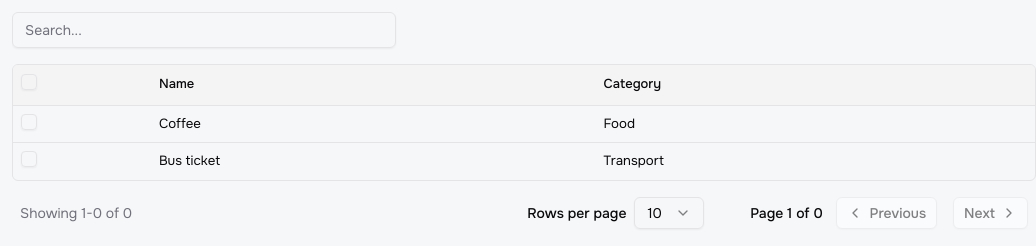
DataTable › clears search, filters, and selection when Reset is clicked
Type "cof" into the field with placeholder "Search..." at (204, 30), box top-left (12, 12), bottom-right (396, 48)
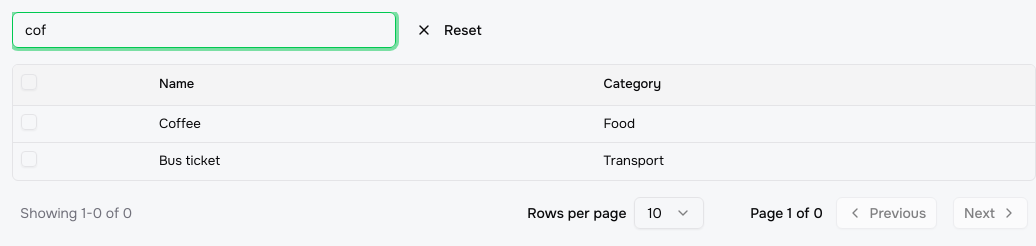
Click the button "Reset" at (449, 30), box top-left (404, 14), bottom-right (494, 46)
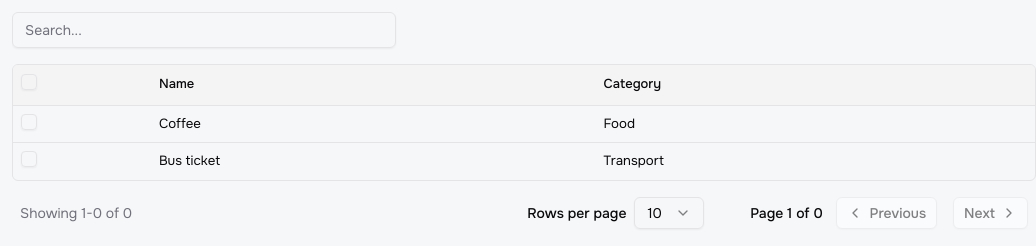
Result: the field with placeholder "Search..." is empty at top-left (12, 12), bottom-right (396, 48)
